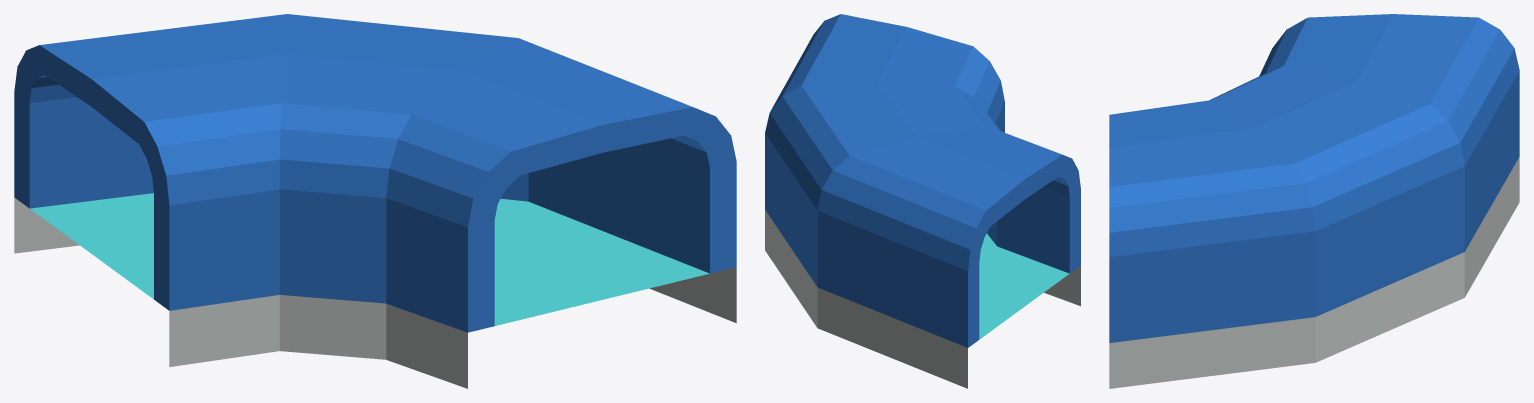
File: Water_Ride_E_Left.fbx
3 views of the same model, side by side, from view 1: azimuth 30°, elevation 25°; view 2: azimuth 150°, elevation 25°; view 3: azimuth 270°, elevation 25° (orthographic). The views are drawn at different scales.
Visible parts, largest first — view 1: Water_Ride_E_L; view 2: Water_Ride_E_L; view 3: Water_Ride_E_L.
Part boxes in pixels (left/top/right/bottom): Water_Ride_E_L: left=14, top=14, right=736, bottom=388; Water_Ride_E_L: left=765, top=14, right=1080, bottom=388; Water_Ride_E_L: left=1109, top=14, right=1519, bottom=388.
Bounding box in the file's own units: 700 × 329 × 650.
